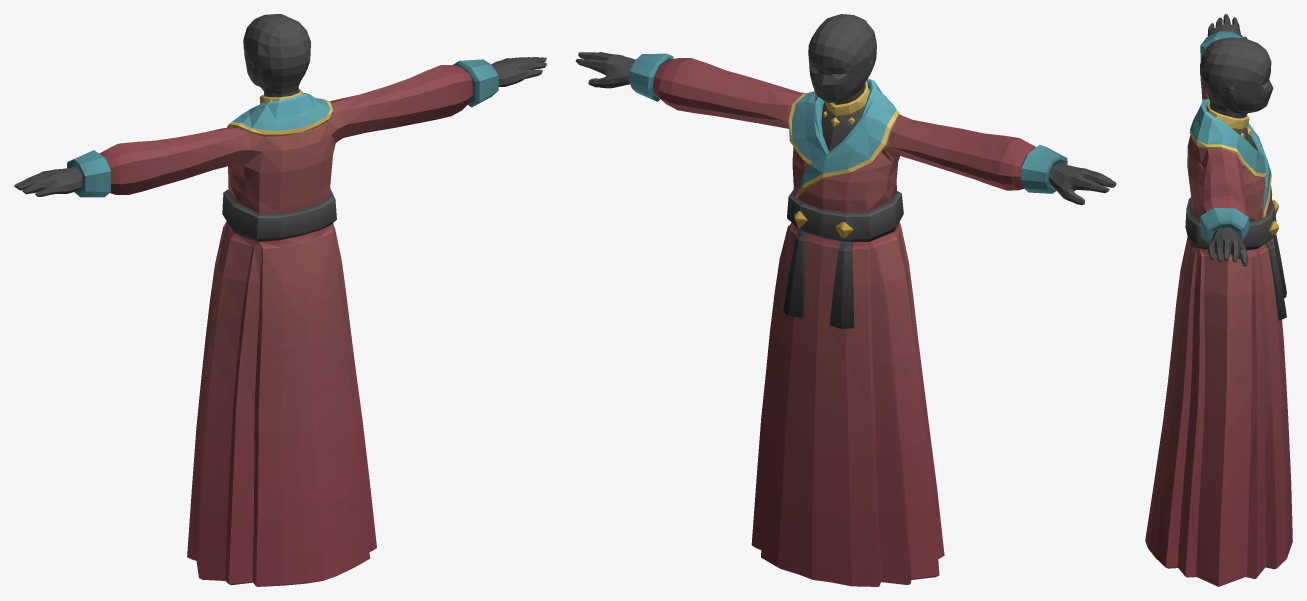
Rendered from NPC_AP21RoyalDress.glb.
3 views of the same model, side by side, from view 1: azimuth 30°, elevation 25°; view 2: azimuth 150°, elevation 25°; view 3: azimuth 270°, elevation 25° (orthographic). The views are drawn at different scales.
Visible parts, largest first — view 1: NPC_AP21RoyalDress; view 2: NPC_AP21RoyalDress; view 3: NPC_AP21RoyalDress.
Part boxes in pixels (left/top/right/bottom): NPC_AP21RoyalDress: left=14, top=14, right=546, bottom=586; NPC_AP21RoyalDress: left=575, top=14, right=1116, bottom=586; NPC_AP21RoyalDress: left=1145, top=14, right=1292, bottom=586.
Size of the model in its own units: 14.22 by 13.77 by 3.63.
1 material, 1 textured.
